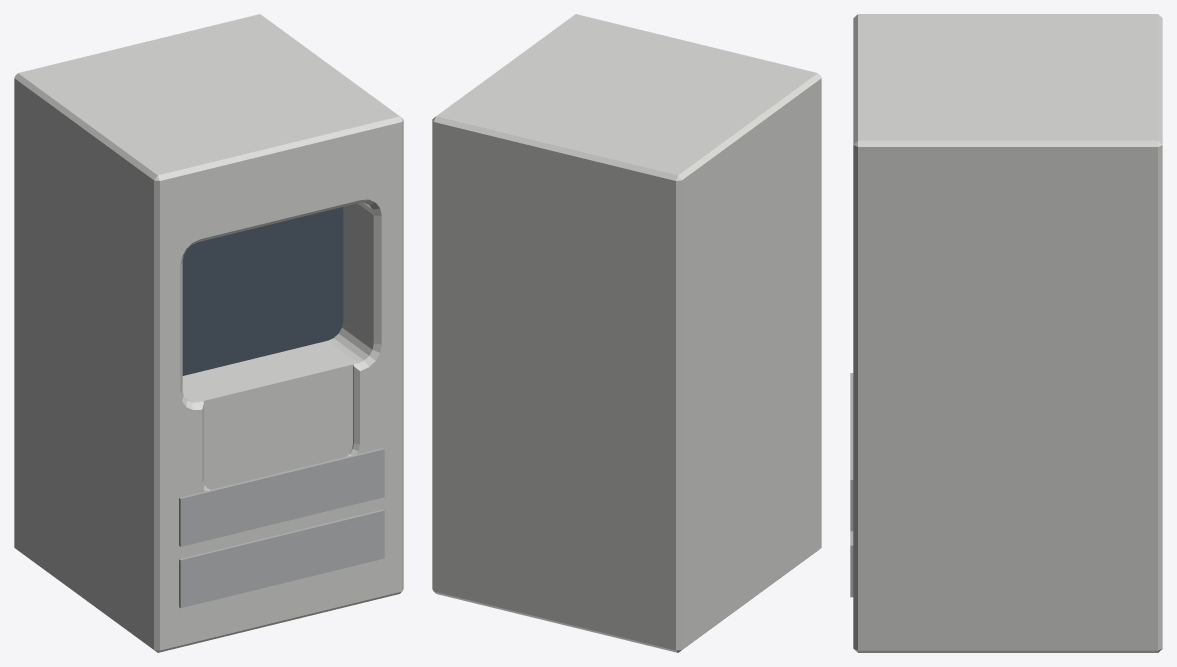
The model's file is ax_util_24_biology_rack.glb.
3 views of the same model, side by side, from view 1: azimuth 30°, elevation 25°; view 2: azimuth 150°, elevation 25°; view 3: azimuth 270°, elevation 25° (orthographic). The views are drawn at different scales.
Visible parts, largest first — view 1: housing, growth_chamber_window, drawers; view 2: housing; view 3: housing, drawers.
Part boxes in pixels (x1=…): housing: x1=14, y1=14, x2=403, y2=652; growth_chamber_window: x1=182, y1=207, x2=343, y2=375; drawers: x1=179, y1=448, x2=384, y2=608; housing: x1=432, y1=14, x2=821, y2=652; housing: x1=853, y1=14, x2=1162, y2=652; drawers: x1=850, y1=373, x2=853, y2=597.
Bounding box in the file's own units: 0.98 × 1.79 × 0.99.
